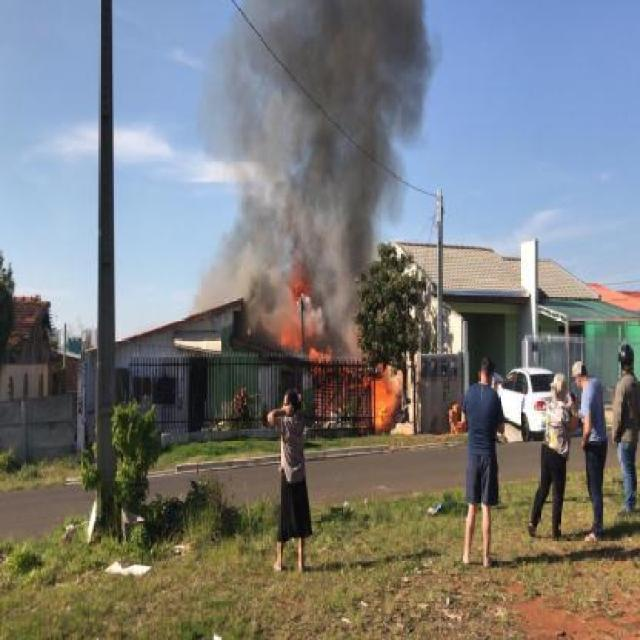Fire: (278, 323, 312, 357), (286, 264, 312, 304), (372, 376, 390, 427), (309, 344, 334, 359)
Smoke: (263, 0, 428, 137), (303, 132, 380, 270), (236, 171, 309, 266), (318, 268, 357, 346)
